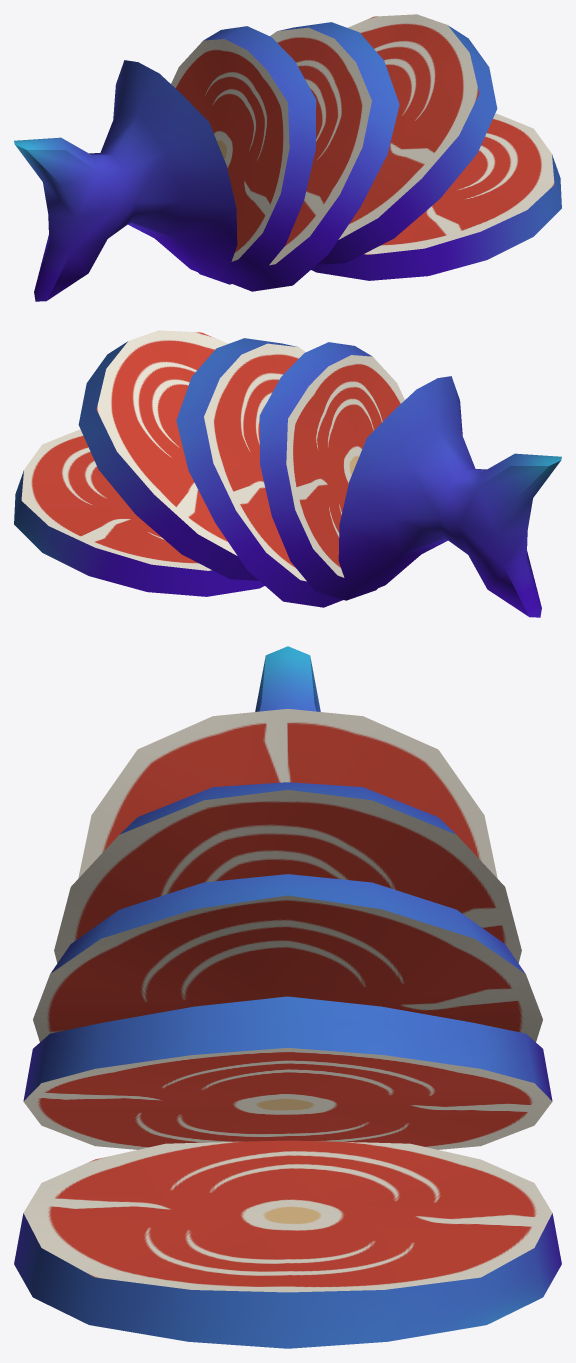
File: Fish_01_S4.fbx
The picture shows the model from 3 angles, top to bottom: view 1: azimuth 30°, elevation 25°; view 2: azimuth 150°, elevation 25°; view 3: azimuth 270°, elevation 25°; orthographic projection. The views are drawn at different scales.
Visible parts, largest first — view 1: Fish_01_S4; view 2: Fish_01_S4; view 3: Fish_01_S4.
Boxes of the visible parts, x1,y1,x2,y2 form: Fish_01_S4: (14, 14, 561, 301); Fish_01_S4: (14, 330, 561, 617); Fish_01_S4: (14, 646, 561, 1348).
Size of the model in its own units: 84.7 by 34.74 by 42.86.
